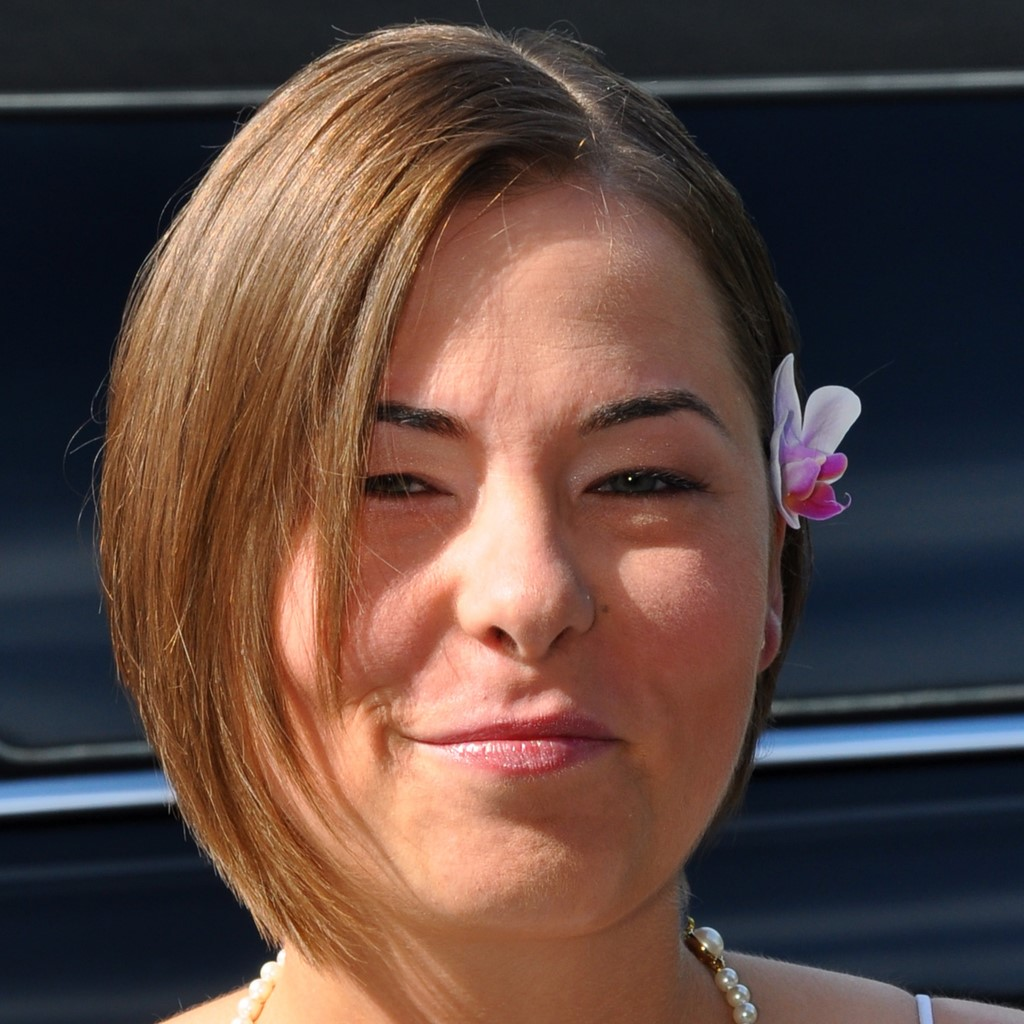sin_mascara: (215, 104, 801, 931)
